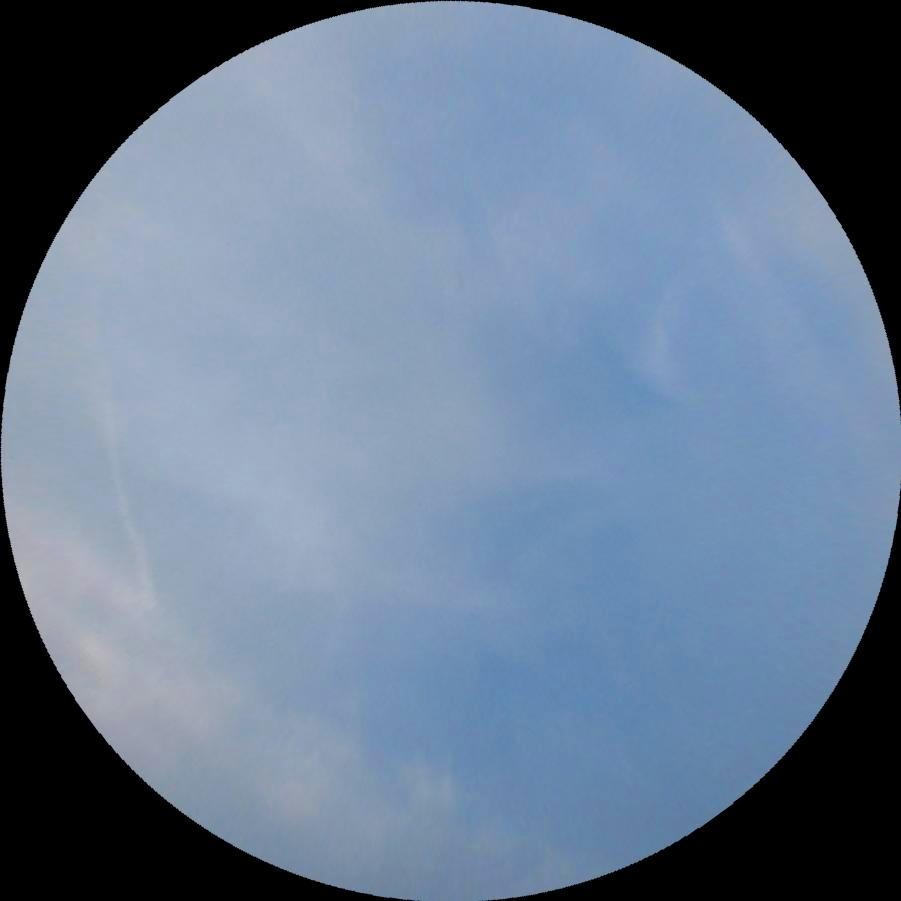contrail old: (82, 338, 163, 610)
